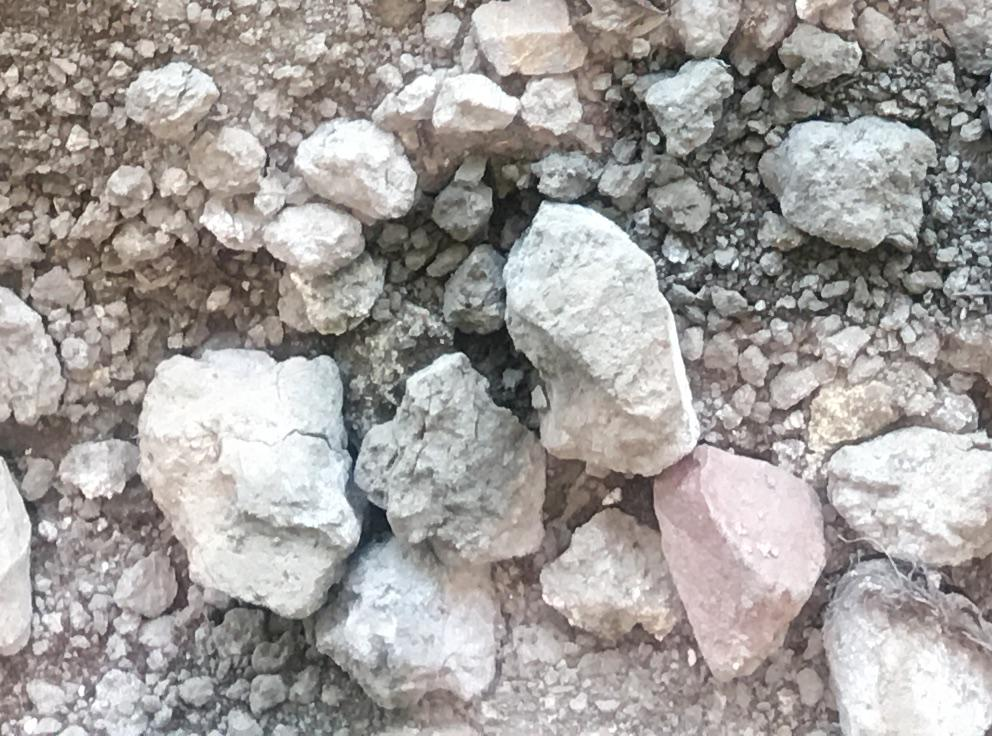block: (138, 350, 349, 620), (504, 202, 693, 479), (638, 436, 821, 676), (354, 368, 543, 564), (311, 542, 500, 707), (824, 565, 992, 735), (754, 115, 928, 253), (827, 422, 992, 567)
